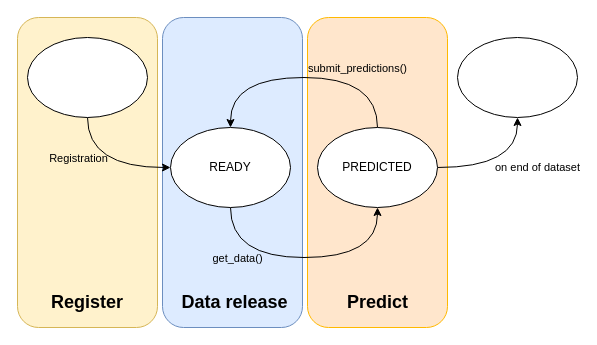
This 597x345 diagram has some shape labels left out. Here are the shapes that lost their labels. From the top down, the centre of each, then its label:
the point at 87,77: NEW
the point at 517,77: COMPLETED
